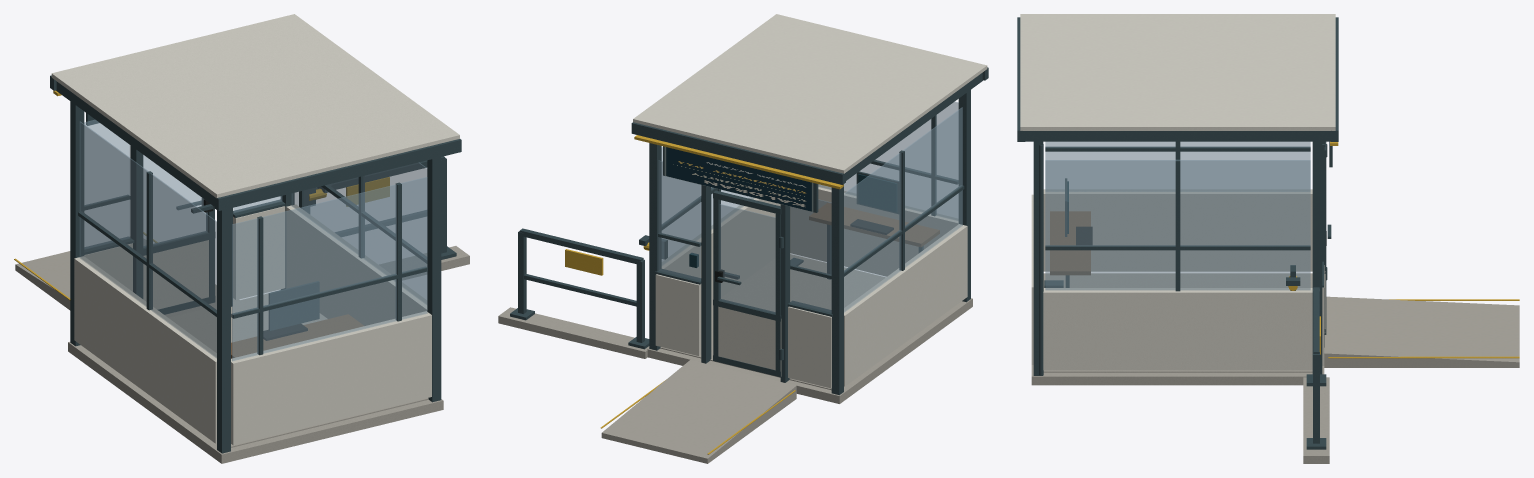
3 views of the same model, side by side, from view 1: azimuth 30°, elevation 25°; view 2: azimuth 150°, elevation 25°; view 3: azimuth 270°, elevation 25° (orthographic). The views are drawn at different scales.
Parts seen in each view (by area): view 1: VIS_Roof_Fall_Cap, VIS_Glazing_Back, VIS_Glazing_Left, VIS_Wall_Back_Spandrel, VIS_Wall_Left_Spandrel, VIS_Glazing_Right, VIS_Wall_Right_Spandrel, VIS_Substructure_Slab, VIS_Glazing_Front_L, VIS_Wall_FrontRight_Spandrel, VIS_Rear_Fascia, VIS_Door_Leaf_Glass (+24 smaller); view 2: VIS_Roof_Fall_Cap, VIS_Glazing_Left, VIS_Accessible_Entry_Ramp, VIS_Wall_Left_Spandrel, VIS_Door_Leaf_Glass, VIS_Glazing_Back, VIS_Wall_Back_Spandrel, VIS_Wall_Right_Spandrel, VIS_Front_Signboard_Graphic, VIS_Glazing_Front_L, VIS_Interior_Terrazzo_Floor, VIS_Glazing_Front_R (+28 smaller); view 3: VIS_Roof_Fall_Cap, VIS_Glazing_Right, VIS_Wall_Right_Spandrel, VIS_Wall_Left_Spandrel, VIS_Accessible_Entry_Ramp, VIS_Glazing_Left, VIS_Substructure_Slab, VIS_Interior_Terrazzo_Floor, VIS_Roof_Structural_Deck, VIS_Interior_Countertop, VIS_Steel_Column_E_N, VIS_Steel_Column_E_S (+9 smaller).
Boxes of the visible parts, bbox=[...] form: VIS_Roof_Fall_Cap: bbox=[51, 14, 459, 198]; VIS_Glazing_Back: bbox=[232, 177, 427, 360]; VIS_Glazing_Left: bbox=[79, 121, 216, 357]; VIS_Wall_Back_Spandrel: bbox=[231, 311, 431, 445]; VIS_Wall_Left_Spandrel: bbox=[74, 256, 216, 443]; VIS_Glazing_Right: bbox=[291, 162, 427, 304]; VIS_Wall_Right_Spandrel: bbox=[286, 204, 427, 325]; VIS_Substructure_Slab: bbox=[68, 293, 443, 463]; VIS_Glazing_Front_L: bbox=[84, 120, 129, 248]; VIS_Wall_FrontRight_Spandrel: bbox=[233, 206, 285, 299]; VIS_Rear_Fascia: bbox=[214, 139, 461, 211]; VIS_Door_Leaf_Glass: bbox=[143, 155, 207, 247]; VIS_Roof_Fall_Cap: bbox=[633, 14, 987, 173]; VIS_Glazing_Left: bbox=[844, 107, 962, 312]; VIS_Accessible_Entry_Ramp: bbox=[601, 360, 796, 463]; VIS_Wall_Left_Spandrel: bbox=[844, 224, 967, 386]; VIS_Door_Leaf_Glass: bbox=[719, 204, 775, 313]; VIS_Glazing_Back: bbox=[818, 101, 958, 220]; VIS_Wall_Back_Spandrel: bbox=[790, 184, 958, 276]; VIS_Wall_Right_Spandrel: bbox=[661, 197, 780, 304]; VIS_Front_Signboard_Graphic: bbox=[664, 147, 813, 211]; VIS_Glazing_Front_L: bbox=[790, 199, 831, 312]; VIS_Interior_Terrazzo_Floor: bbox=[660, 257, 882, 390]; VIS_Glazing_Front_R: bbox=[658, 160, 700, 280]; VIS_Roof_Fall_Cap: bbox=[1020, 14, 1335, 130]; VIS_Glazing_Right: bbox=[1045, 160, 1310, 290]; VIS_Wall_Right_Spandrel: bbox=[1043, 288, 1312, 370]; VIS_Wall_Left_Spandrel: bbox=[1043, 189, 1312, 271]; VIS_Accessible_Entry_Ramp: bbox=[1324, 296, 1519, 367]; VIS_Glazing_Left: bbox=[1045, 141, 1310, 191]; VIS_Substructure_Slab: bbox=[1031, 273, 1324, 385]; VIS_Interior_Terrazzo_Floor: bbox=[1043, 276, 1312, 372]; VIS_Roof_Structural_Deck: bbox=[1025, 131, 1330, 141]; VIS_Interior_Countertop: bbox=[1050, 211, 1090, 275]; VIS_Steel_Column_E_N: bbox=[1312, 141, 1322, 374]; VIS_Steel_Column_E_S: bbox=[1033, 141, 1043, 375].
Size of the model in its own units: 4.52 by 3.04 by 5.14.
Materials: 9 (9 with a texture image).
